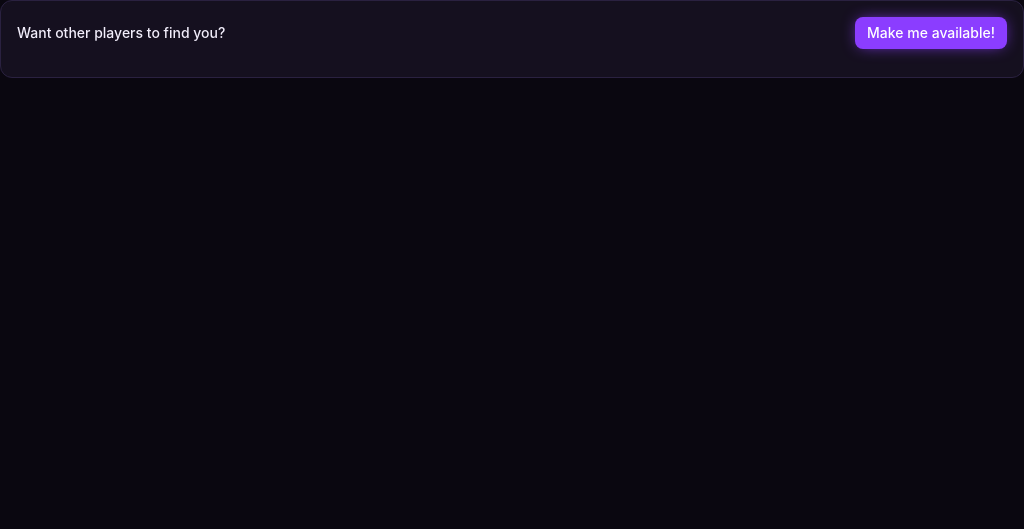
LookingForGamePanel › shows an error when starting without a game and play style
The image size is (1024, 529).
Click the button "Make me available!" in the row of "Want other players to find you?" at (931, 33), box [855,17,1007,49]
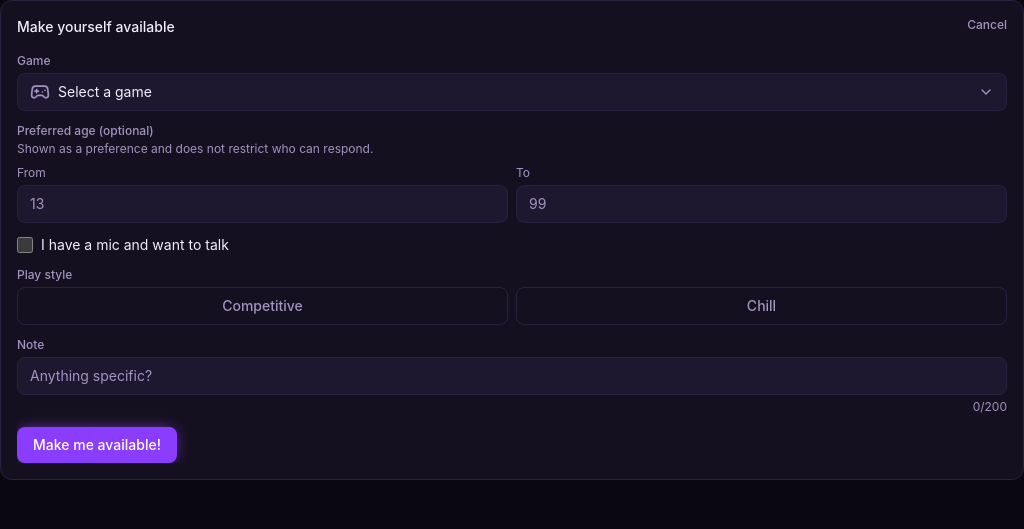
Click the button "Make me available!" at (97, 445), box [17,427,177,463]
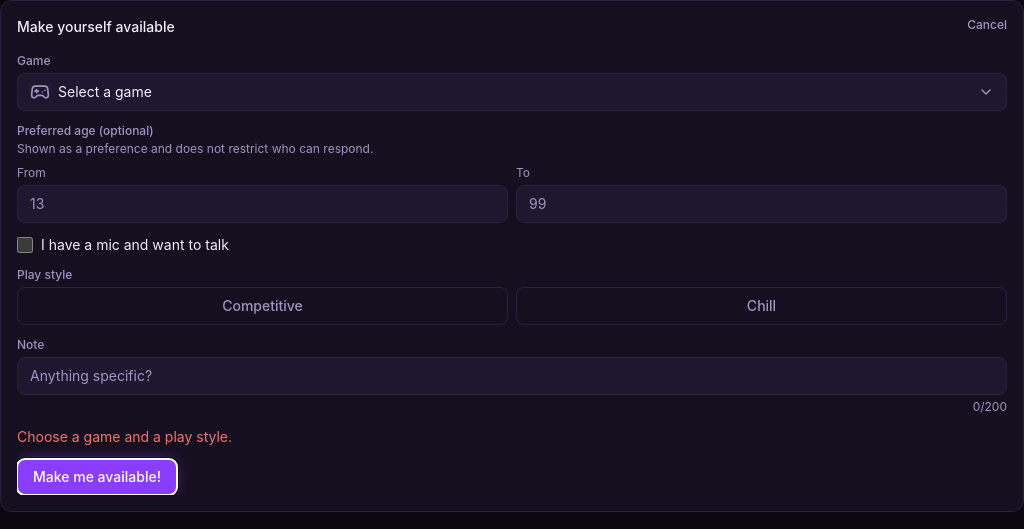
Check: the text "Choose a game and a play style." is shown, box [17,428,232,445]
